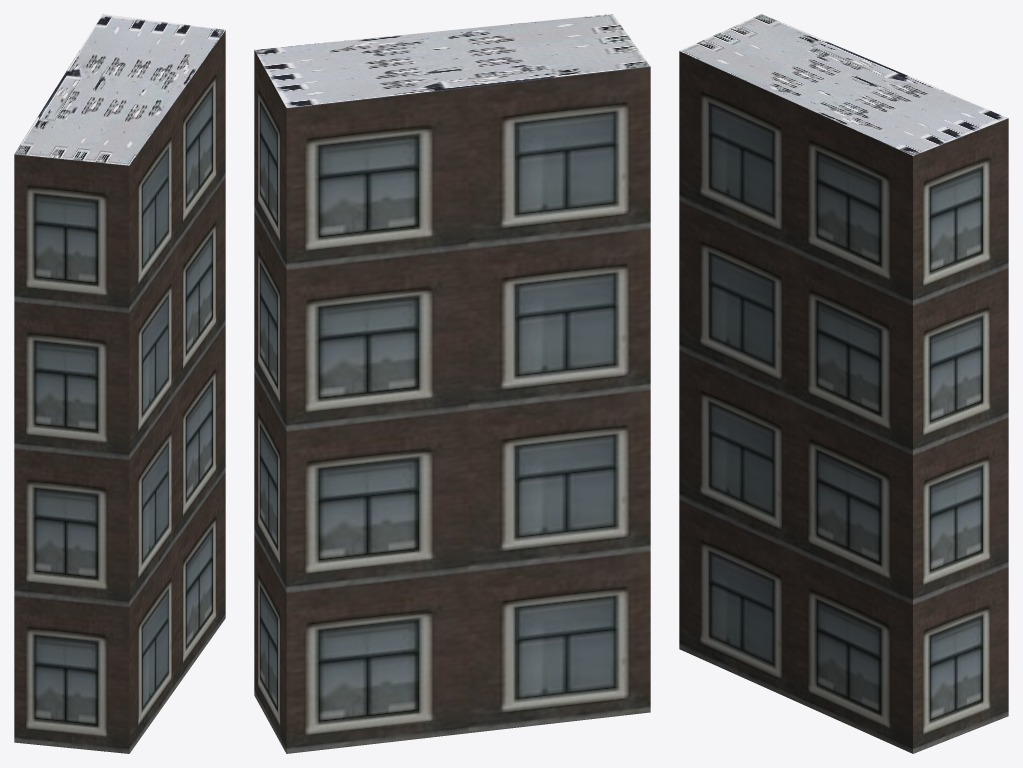
File: ResTex__5325.fbx
3 renders of one model, left to right at view 1: azimuth 30°, elevation 25°; view 2: azimuth 150°, elevation 25°; view 3: azimuth 270°, elevation 25°, orthographic. The views are drawn at different scales.
Visible parts, largest first — view 1: CityEngineMaterial_16_m, CityEngineMaterial_15_m; view 2: CityEngineMaterial_16_m, CityEngineMaterial_15_m; view 3: CityEngineMaterial_16_m, CityEngineMaterial_15_m.
Part boxes in pixels (x1,y1,x2,y2): CityEngineMaterial_16_m: (14,30,225,753); CityEngineMaterial_15_m: (14,14,225,165); CityEngineMaterial_16_m: (254,50,650,753); CityEngineMaterial_15_m: (255,14,650,107); CityEngineMaterial_16_m: (679,51,1008,753); CityEngineMaterial_15_m: (679,14,1008,155).
Size of the model in its own units: 6.11 by 12 by 5.99.
Materials: 2 (2 with a texture image).
